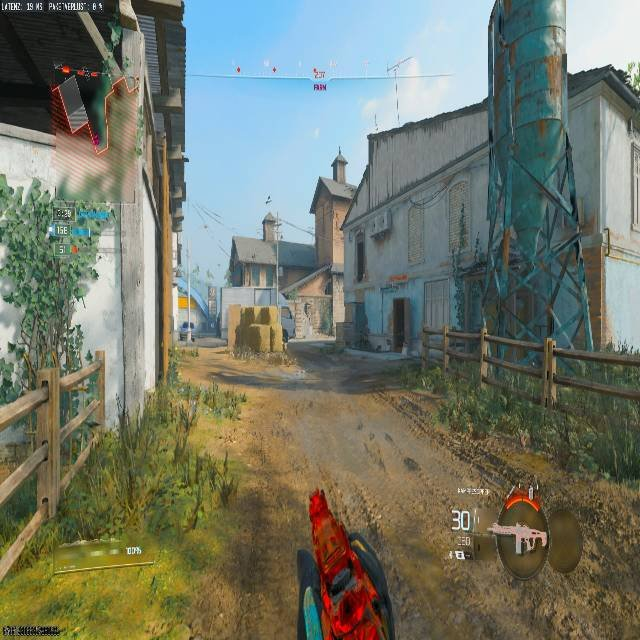player: (180, 315, 197, 346)
